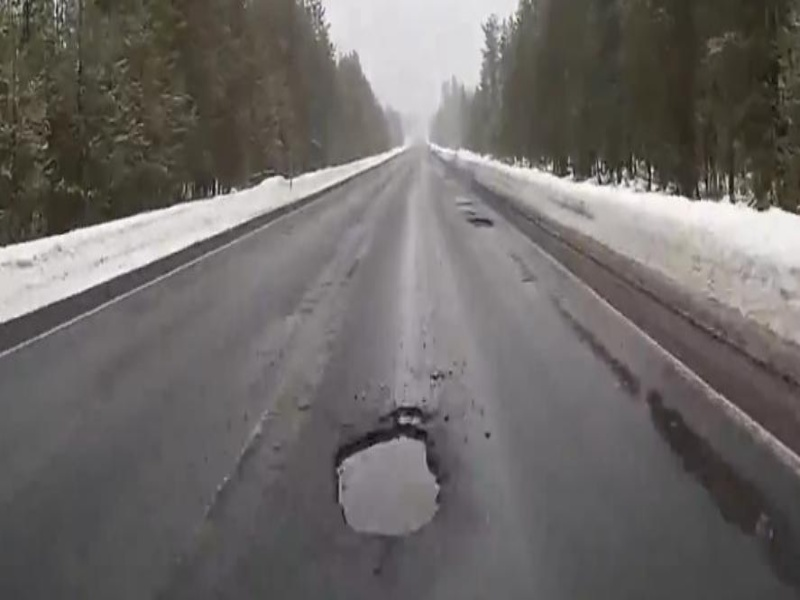pothole: (331, 423, 443, 543), (381, 404, 425, 429)
